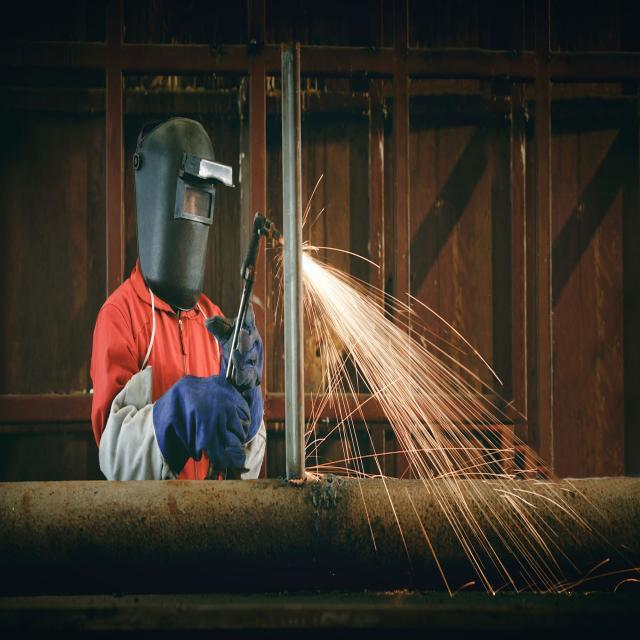with_helmet: (133, 119, 233, 308)
